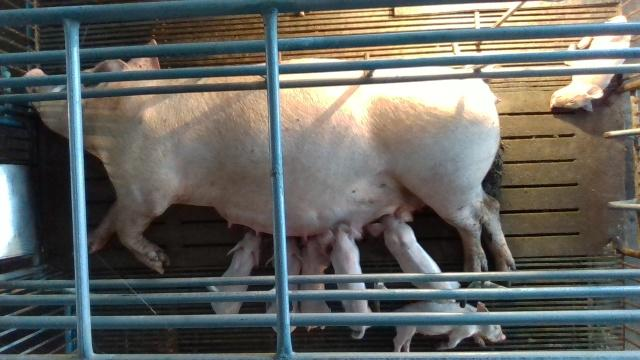piglet: (365, 205, 460, 303), (549, 15, 629, 112), (392, 302, 505, 352), (330, 223, 374, 340), (210, 228, 262, 314), (265, 236, 301, 334), (299, 230, 333, 332)
sow-sleep-lactate: (23, 39, 515, 284)
